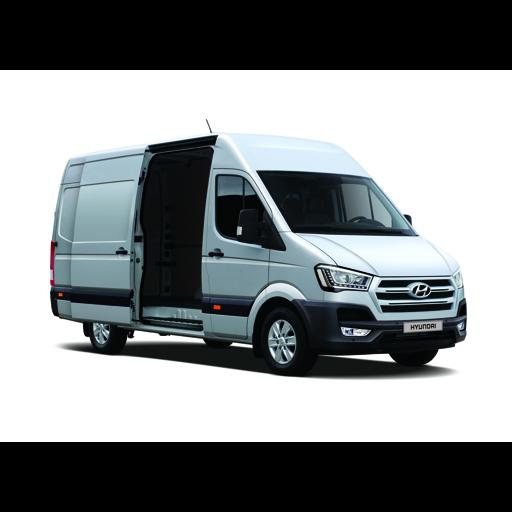van: (46, 134, 465, 372)
